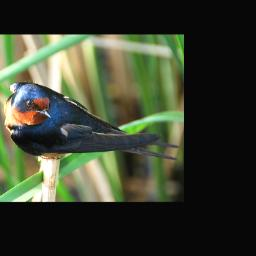Swallow: (2, 80, 181, 162)
